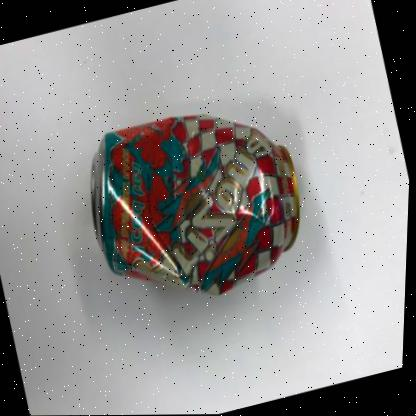Metal: (92, 114, 301, 295)
